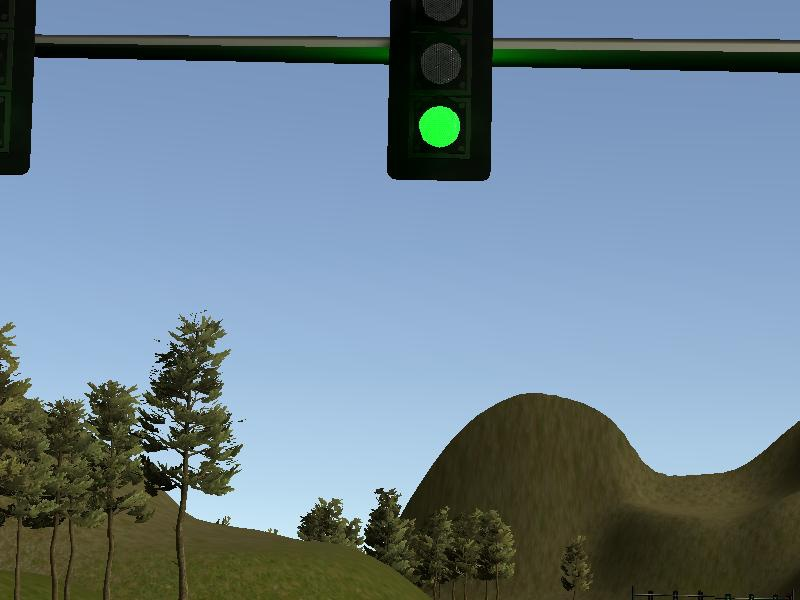Green: (387, 1, 495, 188)
